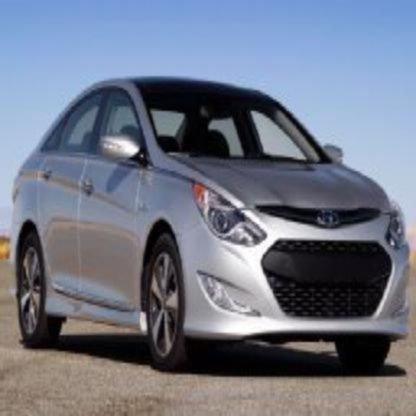Vehicle: (16, 79, 412, 372)
